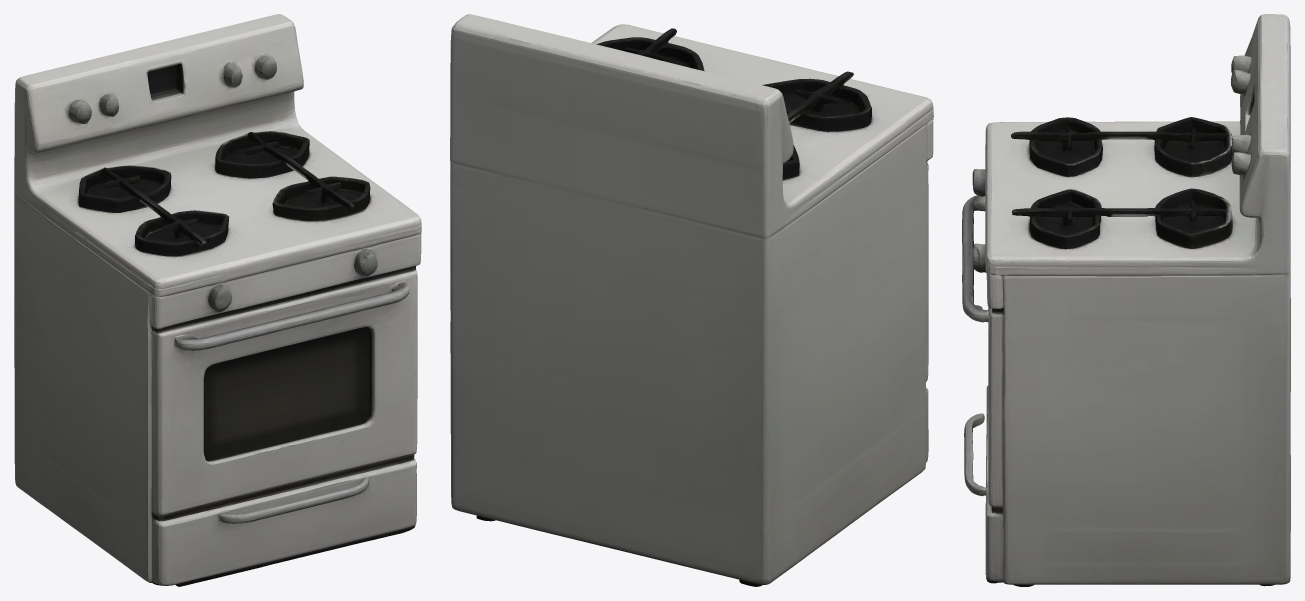
The model's file is oven.glb.
3 views of the same model, side by side, from view 1: azimuth 30°, elevation 25°; view 2: azimuth 150°, elevation 25°; view 3: azimuth 270°, elevation 25° (orthographic). The views are drawn at different scales.
Visible parts, largest first — view 1: world; view 2: world; view 3: world.
Part boxes in pixels (x1,y1,x2,y2): world: (14,14,421,586); world: (450,14,933,586); world: (962,14,1290,586).
Size of the model in its own units: 0.6769 by 1 by 0.6735.
Materials: 1 (1 with a texture image).
